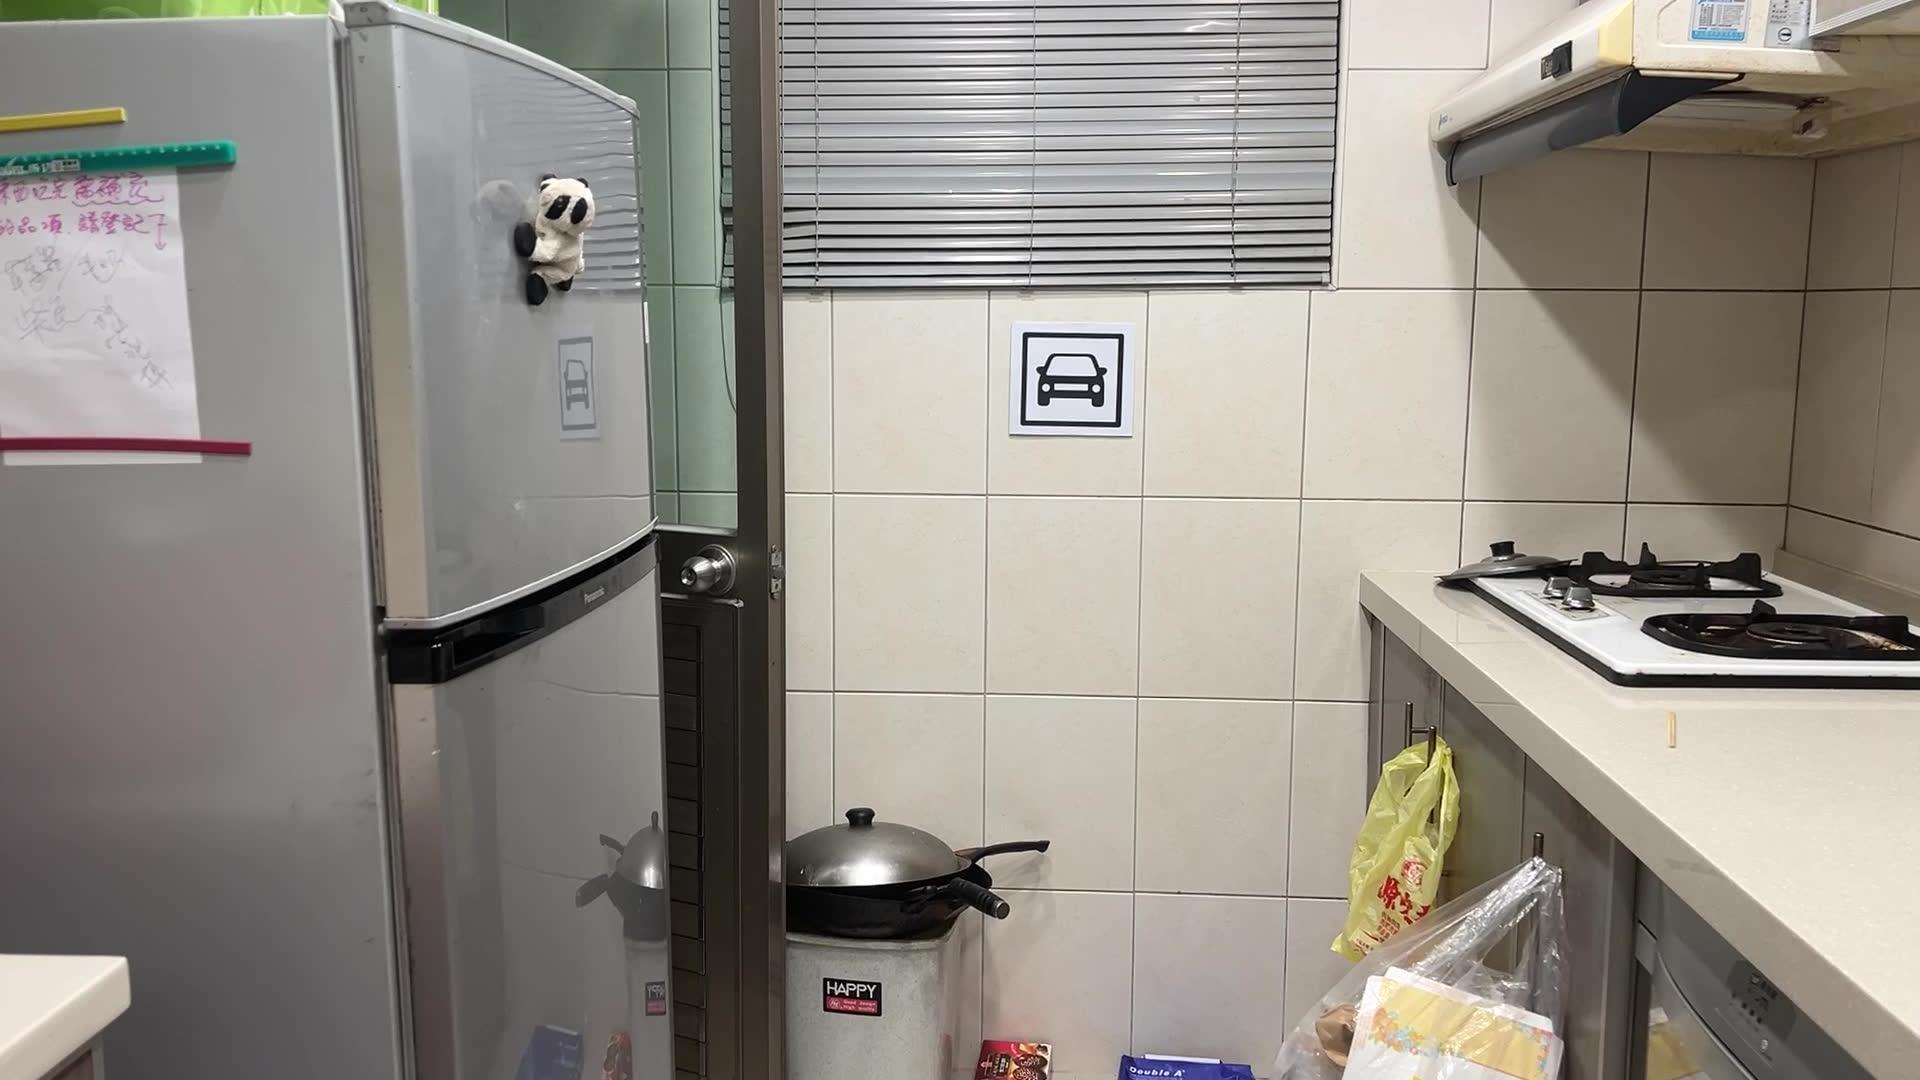car_img: (1017, 328, 1127, 430)
